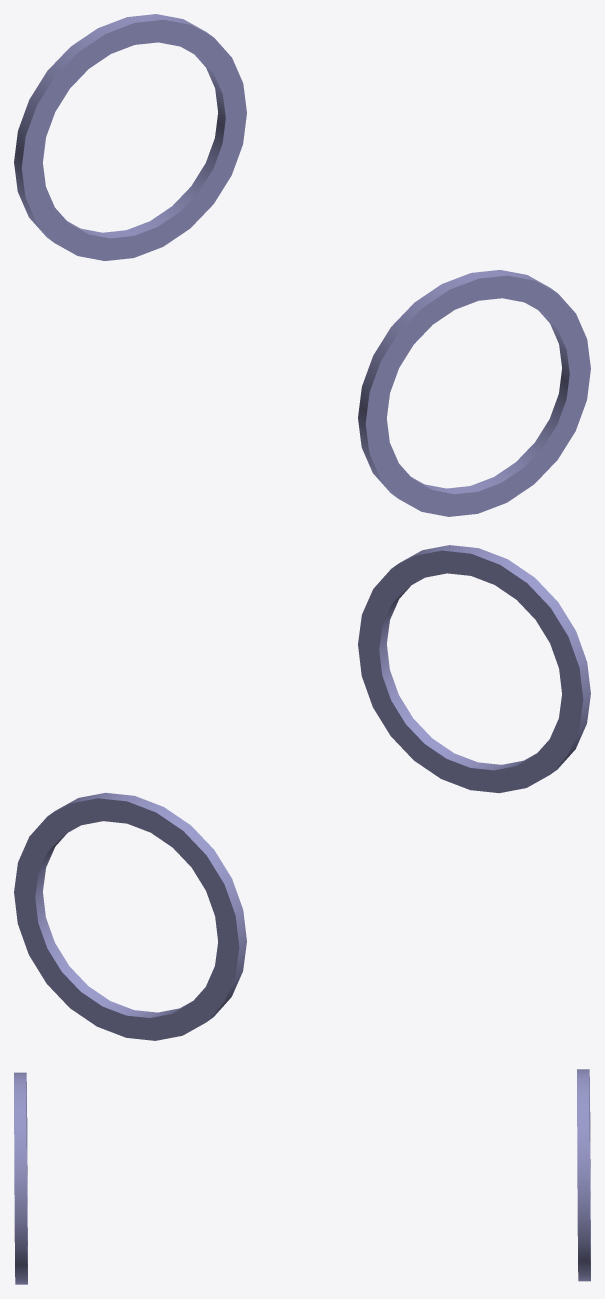
The model's file is EDCGDCBPipe2Flange.gltf.
The picture shows the model from 3 angles, top to bottom: view 1: azimuth 30°, elevation 25°; view 2: azimuth 150°, elevation 25°; view 3: azimuth 270°, elevation 25°; orthographic projection. The views are drawn at different scales.
Parts seen in each view (by area): view 1: logicEDCGDCBPipe2Flange_pv0x2240540, logicEDCGDCBPipe2Flange_pv0x2240578; view 2: logicEDCGDCBPipe2Flange_pv0x2240540, logicEDCGDCBPipe2Flange_pv0x2240578; view 3: logicEDCGDCBPipe2Flange_pv0x2240540, logicEDCGDCBPipe2Flange_pv0x2240578.
Boxes of the visible parts, x1,y1,x2,y2 form: logicEDCGDCBPipe2Flange_pv0x2240540: (14, 14, 246, 260); logicEDCGDCBPipe2Flange_pv0x2240578: (358, 270, 590, 516); logicEDCGDCBPipe2Flange_pv0x2240540: (14, 792, 246, 1040); logicEDCGDCBPipe2Flange_pv0x2240578: (358, 545, 590, 793); logicEDCGDCBPipe2Flange_pv0x2240540: (577, 1069, 590, 1281); logicEDCGDCBPipe2Flange_pv0x2240578: (14, 1072, 27, 1284).
Bounding box in the file's own units: 48.1 × 48.94 × 130.
